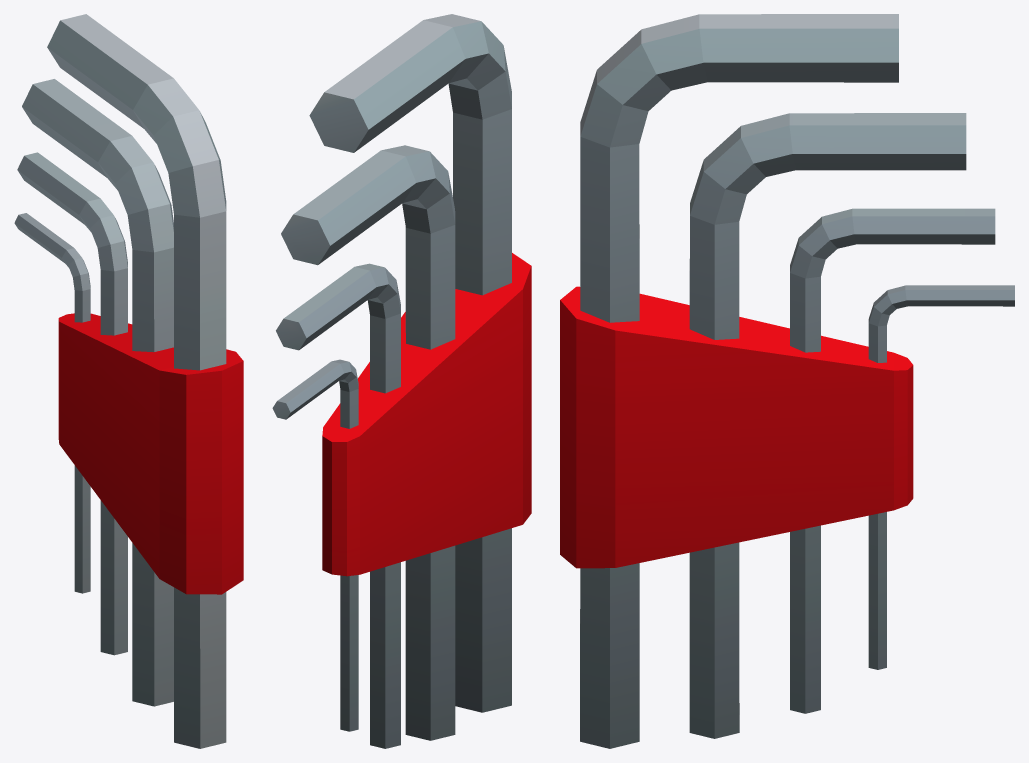
File: hex_wrench_set.glb
The picture shows the model from 3 angles, left to right: view 1: azimuth 30°, elevation 25°; view 2: azimuth 150°, elevation 25°; view 3: azimuth 270°, elevation 25°; orthographic projection. The views are drawn at different scales.
Visible parts, largest first — view 1: hex_wrench_set3; view 2: hex_wrench_set3; view 3: hex_wrench_set3.
Boxes of the visible parts, x1,y1,x2,y2 form: hex_wrench_set3: [14, 14, 243, 748]; hex_wrench_set3: [272, 14, 531, 748]; hex_wrench_set3: [560, 14, 1014, 748].
Size of the model in its own units: 0.0166 by 0.13 by 0.0751.
1 material, 1 textured.
